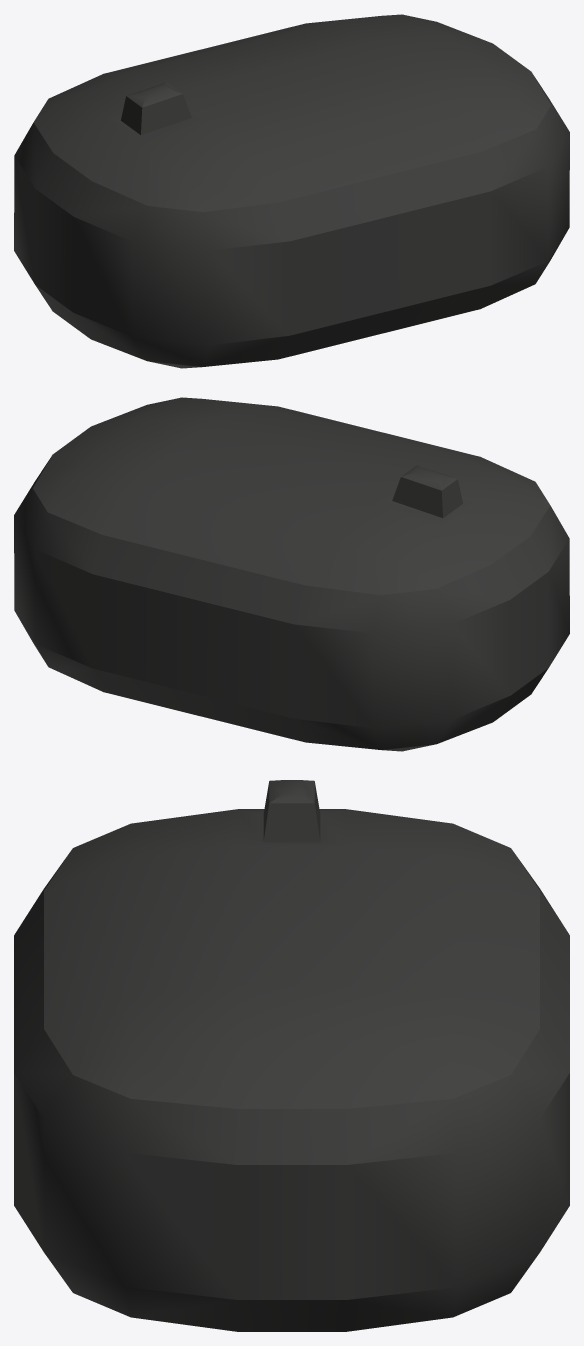
Rendered from myszka.fbx.
3 renders of one model, top to bottom at view 1: azimuth 30°, elevation 25°; view 2: azimuth 150°, elevation 25°; view 3: azimuth 270°, elevation 25°, orthographic. The views are drawn at different scales.
Parts seen in each view (by area): view 1: komputer.002; view 2: komputer.002; view 3: komputer.002.
Part boxes in pixels (left/top/right/bottom): komputer.002: left=14, top=14, right=569, bottom=368; komputer.002: left=14, top=397, right=569, bottom=751; komputer.002: left=14, top=780, right=569, bottom=1331.
Size of the model in its own units: 37.83 by 52.79 by 26.04.
